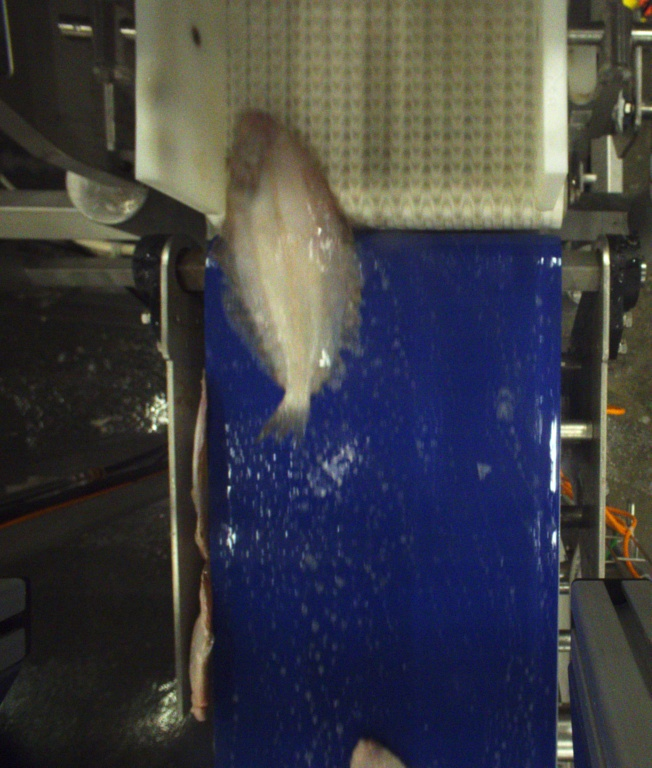WIT: (219, 109, 366, 433)
